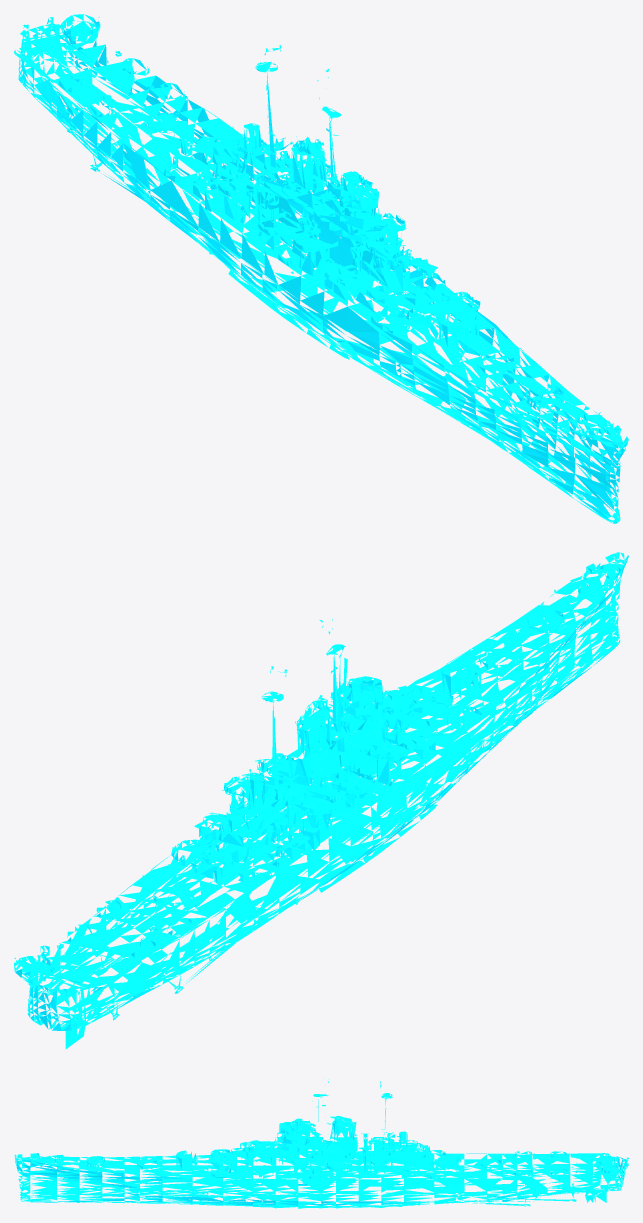
The model's file is Tulsa.glb.
The picture shows the model from 3 angles, top to bottom: view 1: azimuth 30°, elevation 25°; view 2: azimuth 150°, elevation 25°; view 3: azimuth 270°, elevation 25°; orthographic projection. The views are drawn at different scales.
Bounding box in the file's own units: 1.45 × 3.11 × 13.74.
